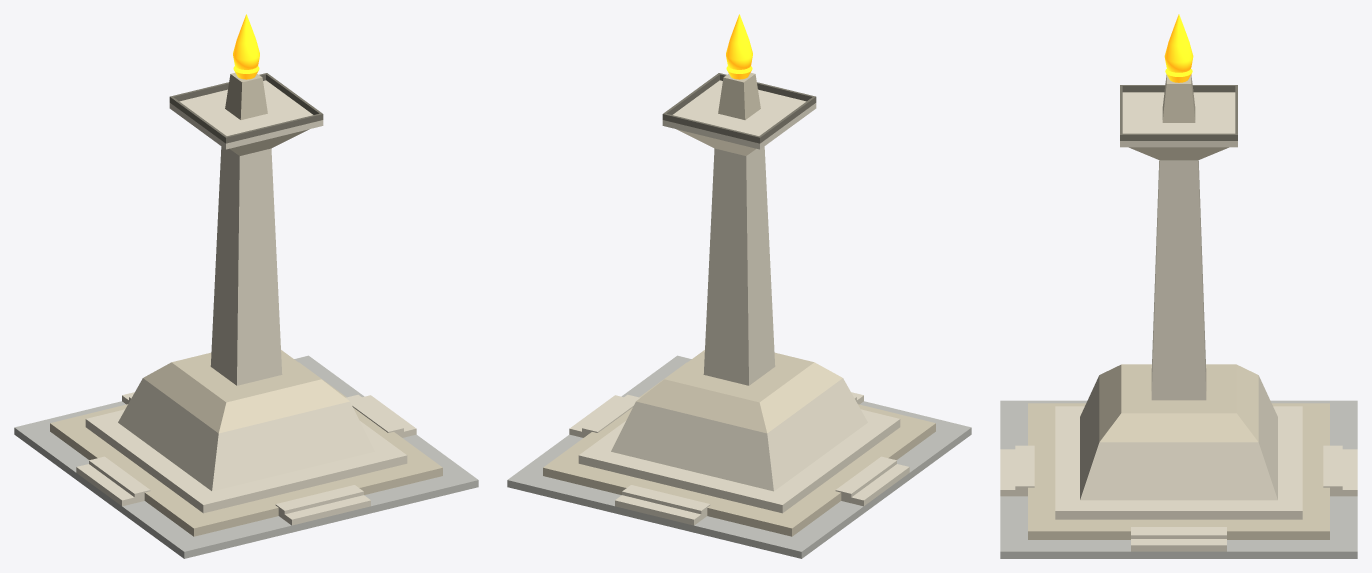
The model's file is monas.glb.
The picture shows the model from 3 angles, left to right: view 1: azimuth 30°, elevation 25°; view 2: azimuth 150°, elevation 25°; view 3: azimuth 270°, elevation 25°; orthographic projection. The views are drawn at different scales.
Parts seen in each view (by area): view 1: Rig, Flame; view 2: Rig, Flame; view 3: Rig, Flame.
Part boxes in pixels (x1,y1,x2,y2): Rig: (14, 66, 478, 558); Flame: (233, 14, 259, 69); Rig: (507, 66, 971, 558); Flame: (726, 14, 752, 69); Rig: (1000, 69, 1357, 558); Flame: (1164, 14, 1193, 72).
Bounding box in the file's own units: 1.38 × 2 × 1.38.
